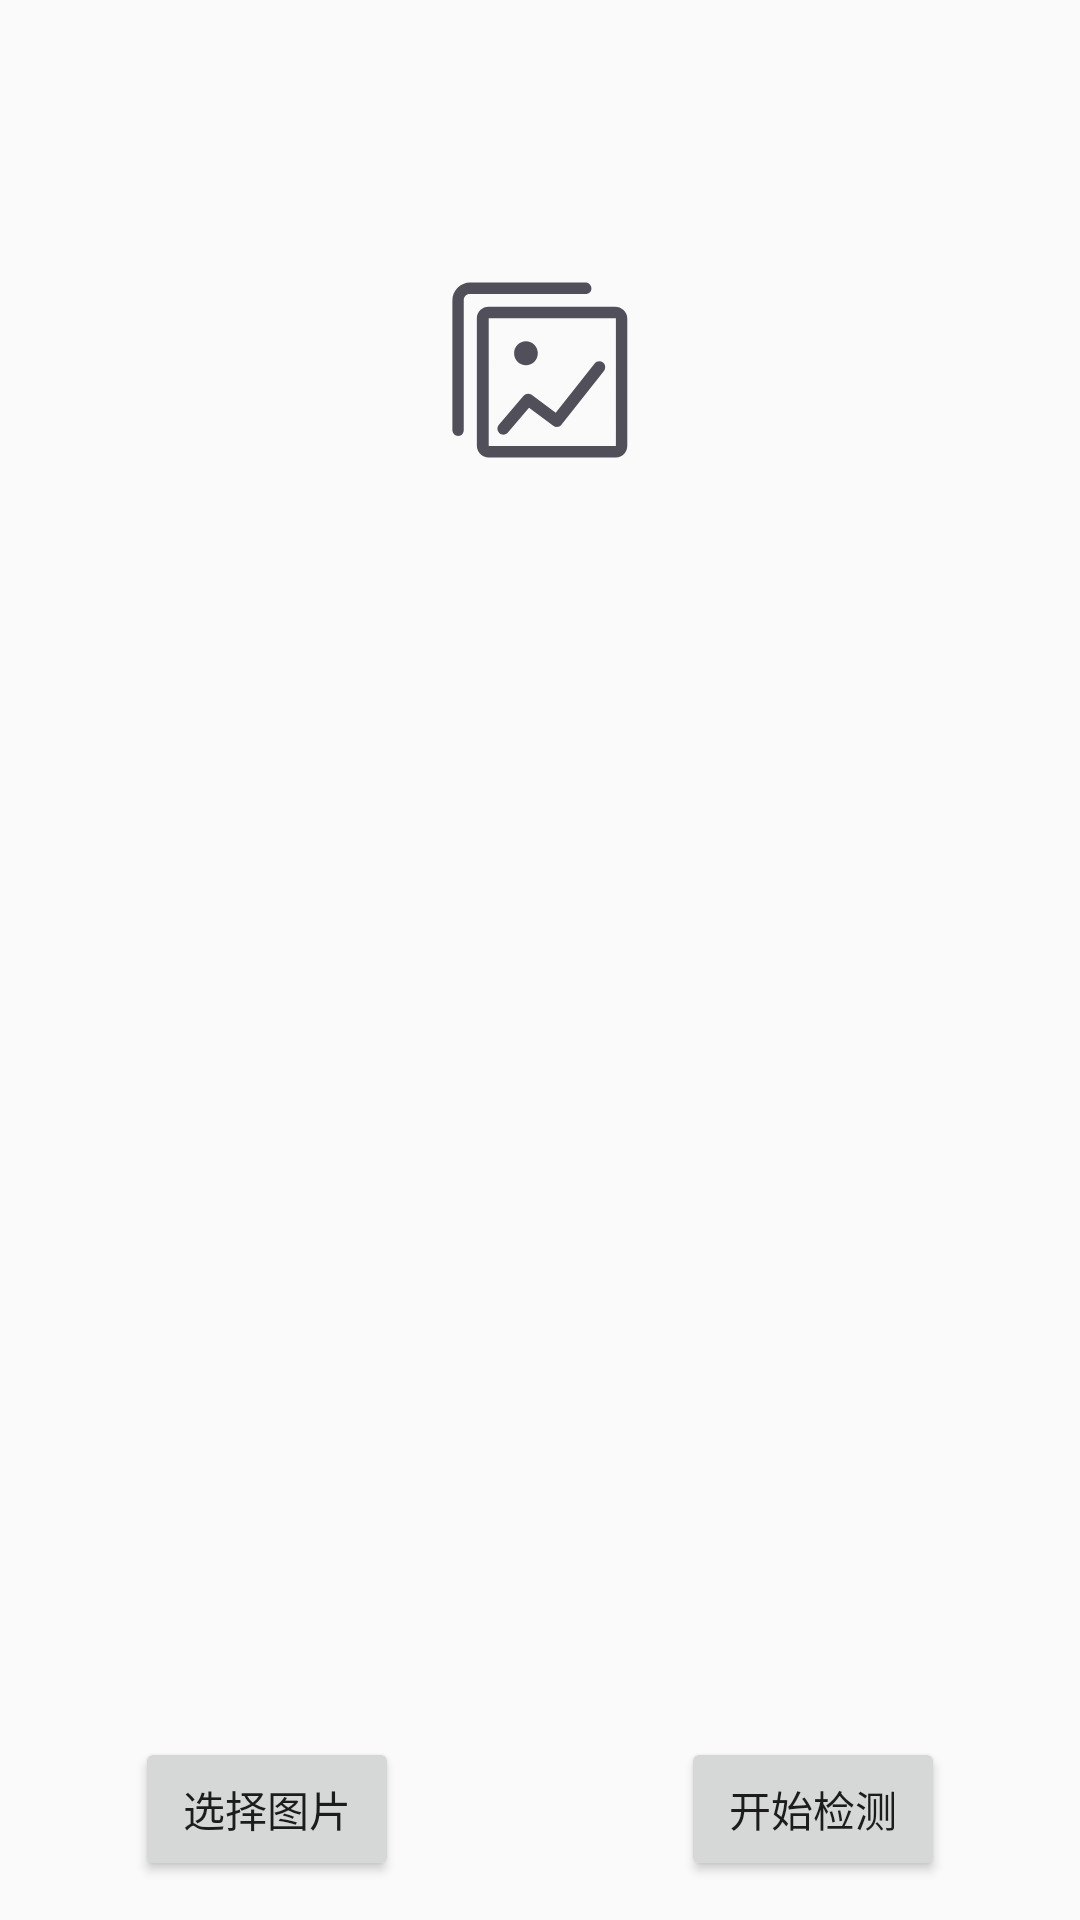

Icon click points for this 1080 x 1920 phone screenshot, format (x=x, y=y):
select pic: (x=540, y=370)
